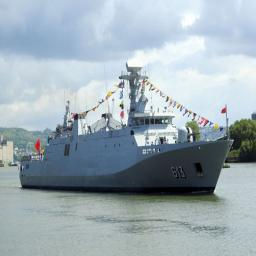Fragata: (19, 58, 237, 195)
